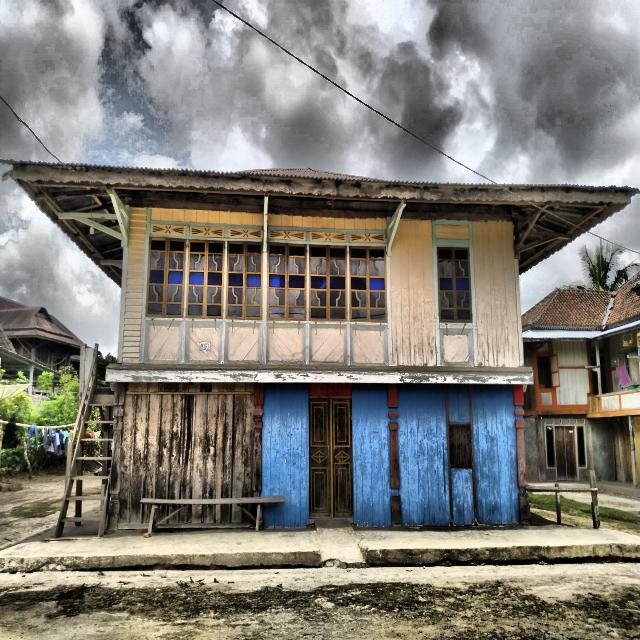column: (106, 383, 126, 530), (513, 385, 529, 524), (388, 384, 401, 525), (253, 383, 264, 497), (628, 416, 638, 486)
door: (308, 398, 353, 520), (554, 426, 577, 480)
ornamen: (266, 323, 306, 365), (184, 321, 223, 364), (144, 320, 182, 364), (224, 322, 262, 364), (309, 324, 347, 366), (350, 325, 388, 366)
roof: (0, 160, 638, 284), (521, 271, 640, 338), (0, 297, 83, 348)
stair: (45, 343, 115, 540)
wall: (122, 207, 263, 365), (390, 219, 520, 368), (118, 382, 255, 523), (260, 383, 392, 529), (266, 214, 388, 366), (396, 384, 520, 526), (542, 415, 616, 481), (536, 341, 589, 410)
window: (145, 236, 187, 318), (185, 239, 225, 319), (267, 242, 307, 321), (225, 241, 263, 320), (349, 246, 387, 323), (309, 244, 347, 321), (437, 246, 473, 323), (449, 424, 473, 466), (536, 354, 560, 389), (545, 425, 556, 467), (576, 426, 586, 467)
